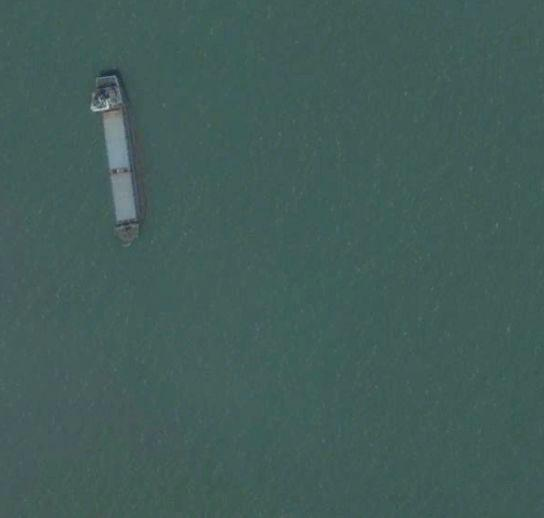Ships: (80, 59, 167, 249)
